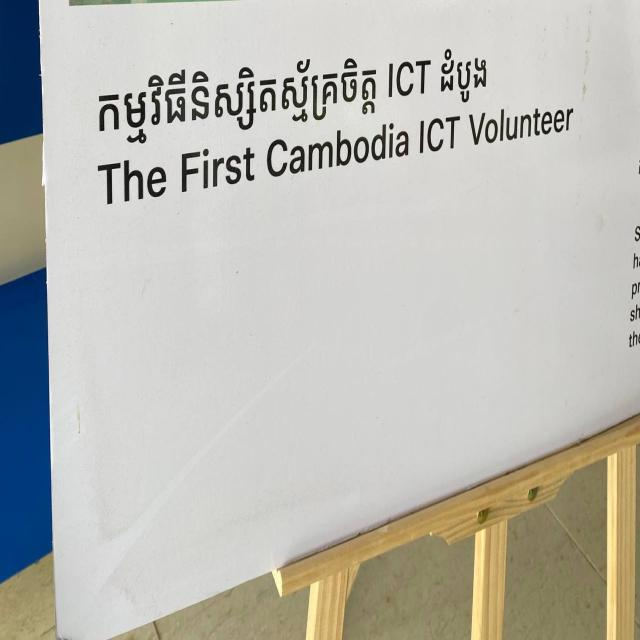Yolov11_80vkh: (90, 48, 383, 159), (437, 42, 496, 107)
